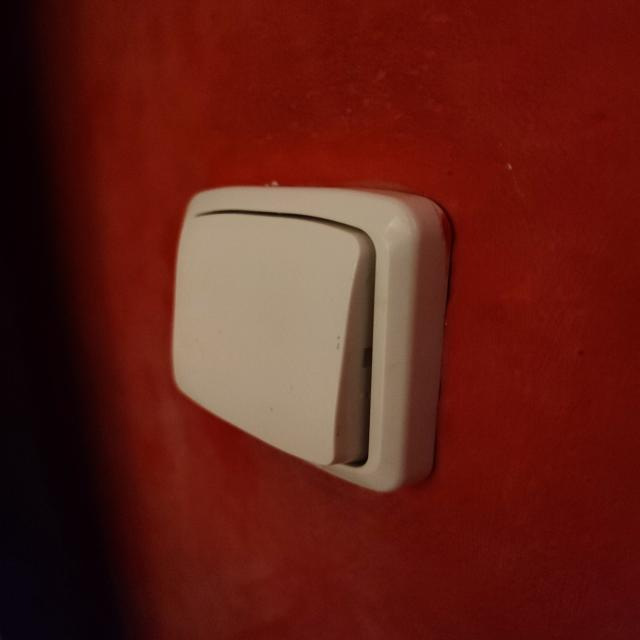house switch: (174, 185, 452, 493)
